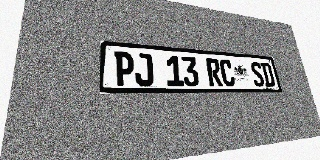1: (165, 55, 184, 86)
3: (181, 56, 199, 86)
C: (219, 59, 236, 87)
D: (260, 62, 276, 87)
J: (134, 53, 154, 86)
P: (114, 51, 134, 86)
R: (205, 58, 223, 86)
S: (249, 61, 265, 87)
